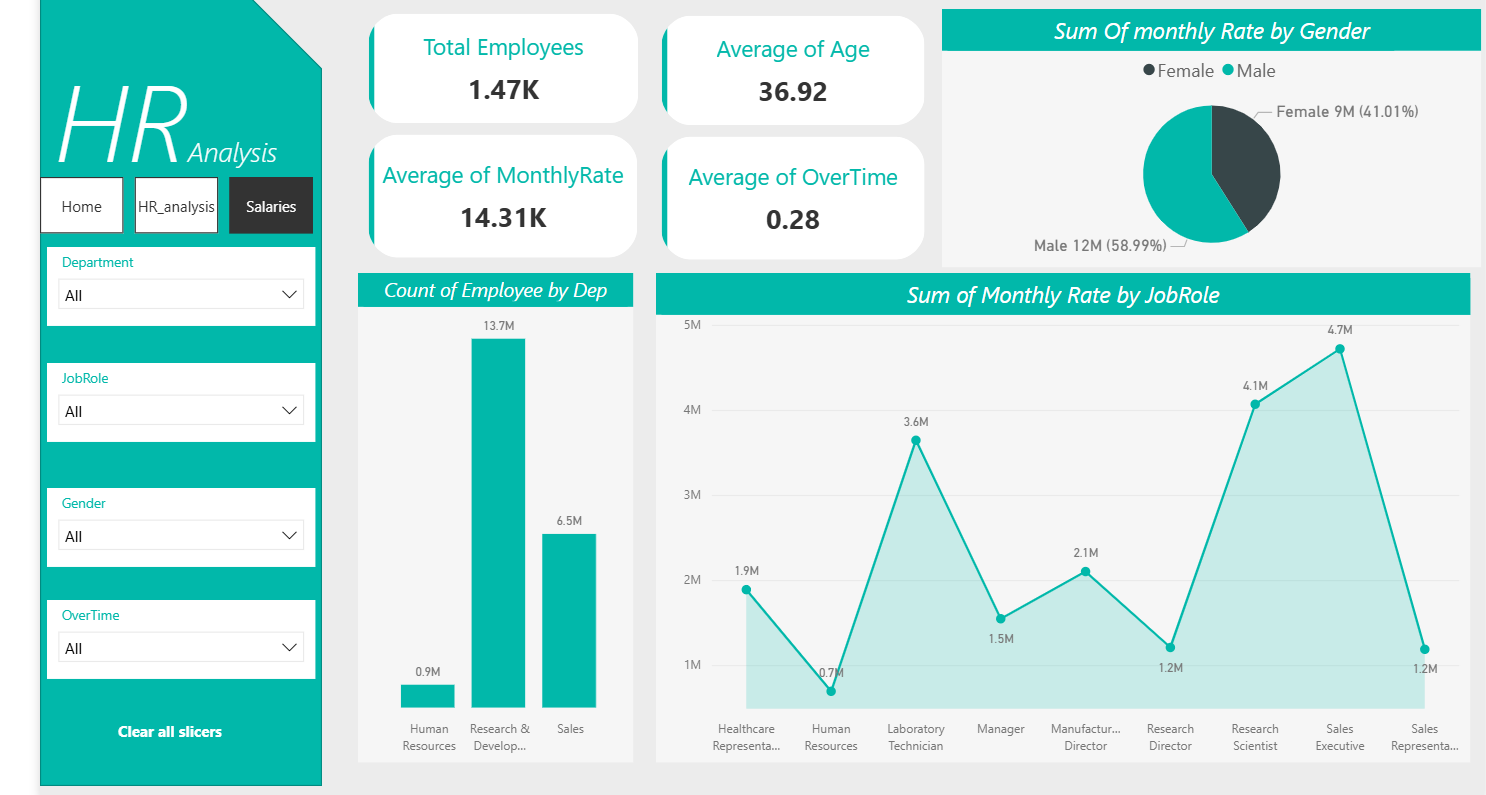

The dashboard page shown, as its layout file describes it:
{"tool":"powerbi","page":{"name":"Salaries","canvas":[1280,720],"ordinal":1},"visuals":[{"type":"cardVisual","title":"Total Employee","fields":{"Data":["CountNonNull(Cleaned Data.EmployeeID)"]},"box":[276.7,8,249.2,107.3],"z":0},{"type":"cardVisual","title":"Average Age","fields":{"Data":["Avg(Cleaned Data.Age)"]},"box":[546.2,8.9,243.8,107.3],"z":1000},{"type":"cardVisual","title":"Average of Month Rate","fields":{"Data":["Avg(Cleaned Data.MonthlyRate)"]},"box":[276.7,123.3,249.2,119.7],"z":2000},{"type":"cardVisual","title":"Average Of over time","fields":{"Data":["Avg(Cleaned Data.OverTime)"]},"box":[546.2,126.8,243.8,119.7],"z":3000},{"type":"columnChart","title":"Count of Employee by Dep","fields":{"Category":["Cleaned Data.Department"],"Y":["Sum(Cleaned Data.MonthlyRate)"]},"box":[282.1,252.5,243.6,434.3],"z":4000},{"type":"pieChart","title":"Sum Of monthly Rate by Gender","fields":{"Category":["Cleaned Data.Gender"],"Y":["Sum(Cleaned Data.MonthlyRate)"]},"box":[813.1,8.9,454.9,228.8],"z":5000},{"type":"shape","box":[0,8.9,250,698.7],"z":6000},{"type":"textbox","box":[8,45.2,235.9,192.4],"z":7000},{"type":"slicer","title":"Department","fields":{"Values":["Cleaned Data.Department"]},"box":[6.2,229.7,237.6,70],"z":8000},{"type":"slicer","title":"Department","fields":{"Values":["Cleaned Data.JobRole"]},"box":[6.2,332.5,237.6,70],"z":9000},{"type":"slicer","title":"Department","fields":{"Values":["Cleaned Data.Gender"]},"box":[6.2,443.3,237.6,70],"z":10000},{"type":"slicer","title":"Department","fields":{"Values":["Cleaned Data.OverTime"]},"box":[6.2,542.7,237.6,70],"z":11000},{"type":"actionButton","box":[15.1,634,200.4,49.7],"z":12000},{"type":"lineChart","title":"Sum of Monthly Rate by JobRole","fields":{"Category":["Cleaned Data.JobRole"],"Y":["Sum(Cleaned Data.MonthlyRate)"]},"box":[546.3,252.5,721.8,434.3],"z":13000}]}

Visuals, with their boxes on the page's 1280x720 design canvas (x1, y1, x2, y2). These are canvas units, not pixel positions in the 1486x795 screenshot, which may show the page scaled, cropped or inside an application window:
"Total Employee" cardVisual: {"left": 277, "top": 8, "right": 526, "bottom": 115}
"Average Age" cardVisual: {"left": 546, "top": 9, "right": 790, "bottom": 116}
"Average of Month Rate" cardVisual: {"left": 277, "top": 123, "right": 526, "bottom": 243}
"Average Of over time" cardVisual: {"left": 546, "top": 127, "right": 790, "bottom": 246}
"Count of Employee by Dep" columnChart: {"left": 282, "top": 252, "right": 526, "bottom": 687}
"Sum Of monthly Rate by Gender" pieChart: {"left": 813, "top": 9, "right": 1268, "bottom": 238}
shape: {"left": 0, "top": 9, "right": 250, "bottom": 708}
textbox: {"left": 8, "top": 45, "right": 244, "bottom": 238}
"Department" slicer: {"left": 6, "top": 230, "right": 244, "bottom": 300}
"Department" slicer: {"left": 6, "top": 332, "right": 244, "bottom": 402}
"Department" slicer: {"left": 6, "top": 443, "right": 244, "bottom": 513}
"Department" slicer: {"left": 6, "top": 543, "right": 244, "bottom": 613}
actionButton: {"left": 15, "top": 634, "right": 216, "bottom": 684}
"Sum of Monthly Rate by JobRole" lineChart: {"left": 546, "top": 252, "right": 1268, "bottom": 687}
